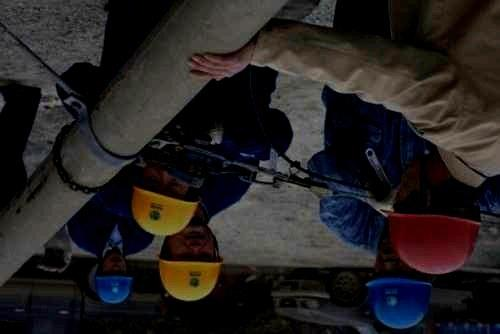helmet: (380, 155, 483, 274), (365, 231, 433, 328), (156, 218, 224, 302), (132, 164, 199, 236), (93, 249, 134, 304)
